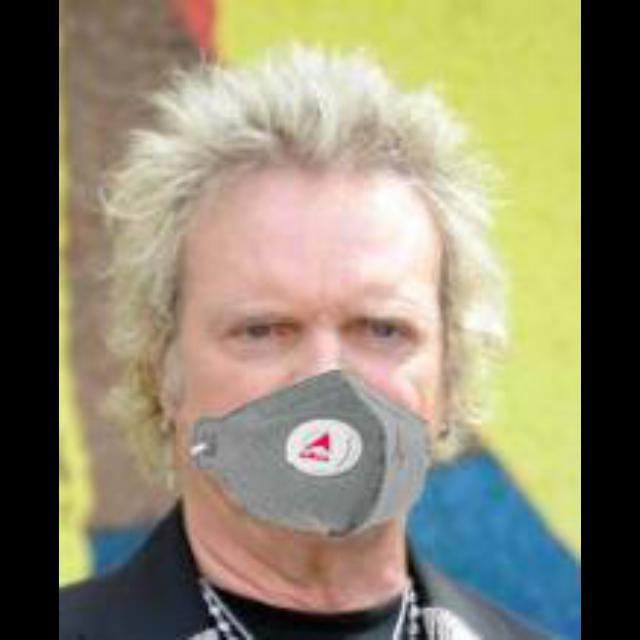suspicion: (160, 126, 434, 534)
